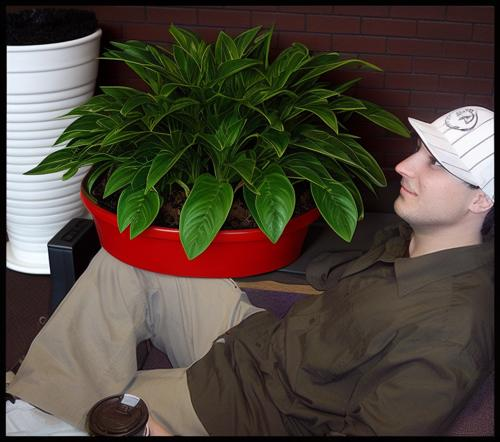chair: (138, 280, 496, 438), (130, 114, 417, 243)
person: (7, 106, 494, 438)
person/foot: (6, 394, 89, 437)
person/hand: (146, 415, 174, 437)
person/head: (388, 106, 496, 231)
pottedplant: (6, 22, 410, 278)
